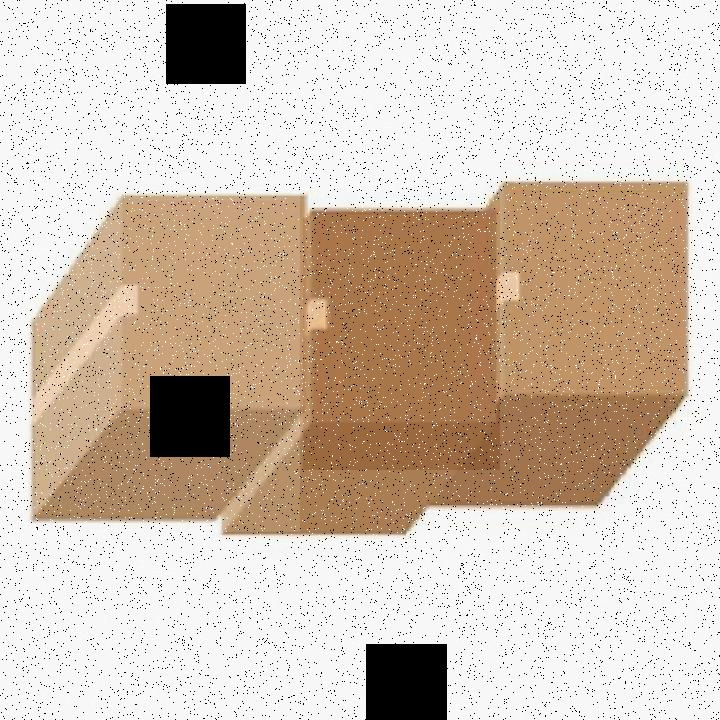box: (22, 190, 300, 532), (303, 192, 500, 470)
